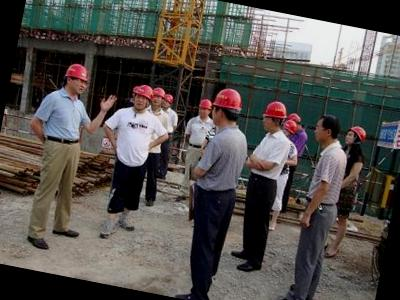no_helmet: (310, 112, 342, 148)
